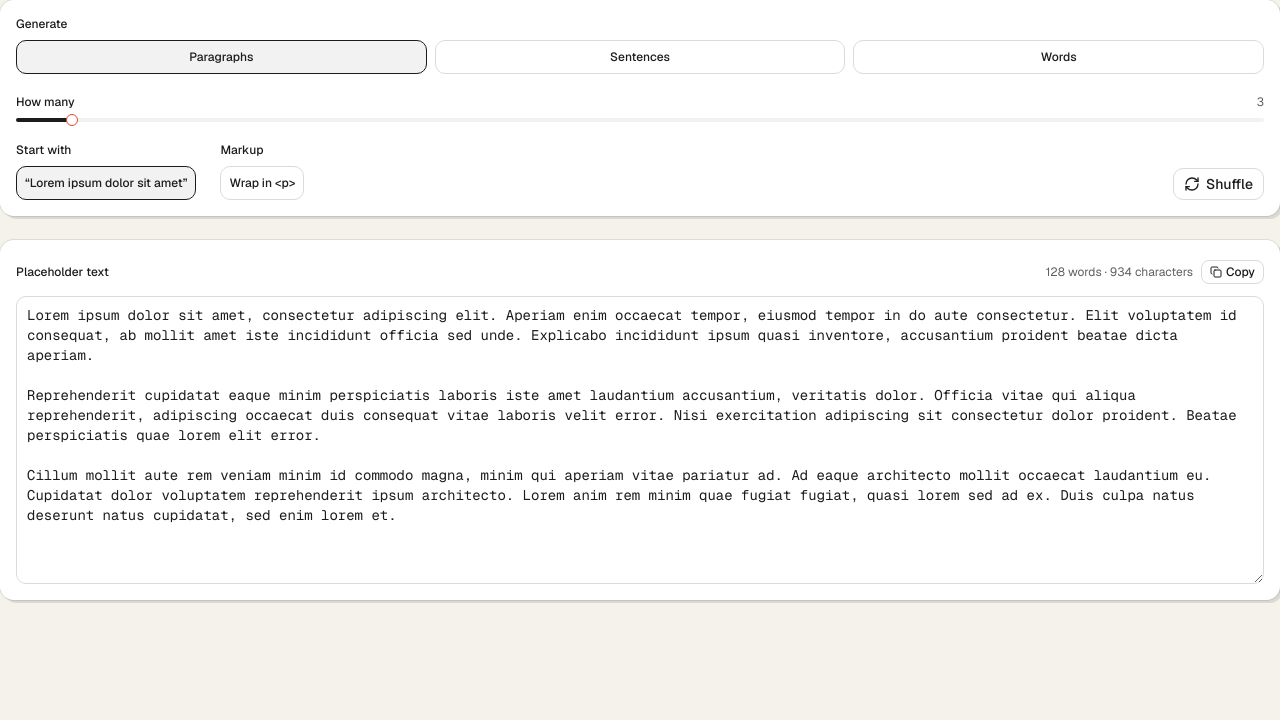
Test: LoremIpsumTool › offers the HTML wrapper only for paragraphs
Expected: the text box named "Placeholder text" is not empty, [16, 296, 1264, 584]
Expected: the button "Wrap in <p>" is shown, [220, 166, 304, 200]
Click the button "Words": point(1059, 57) [853, 40, 1264, 74]
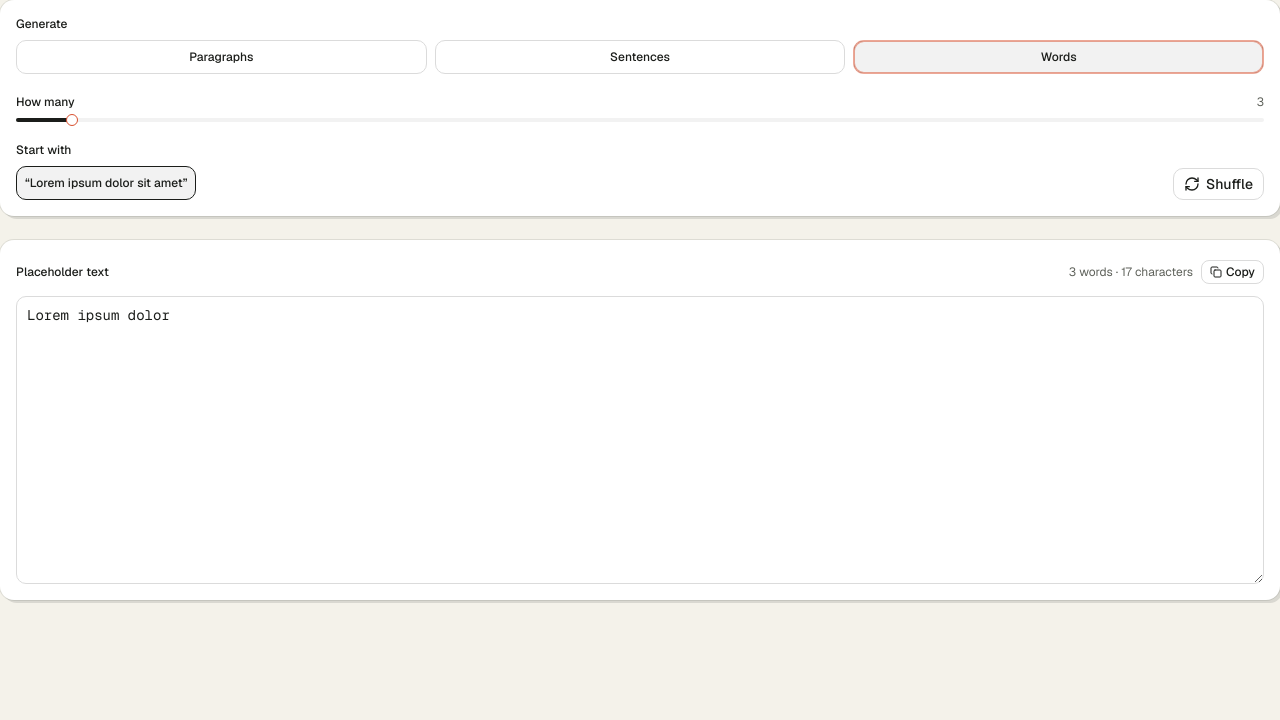
Expected: the button "Wrap in" is gone
